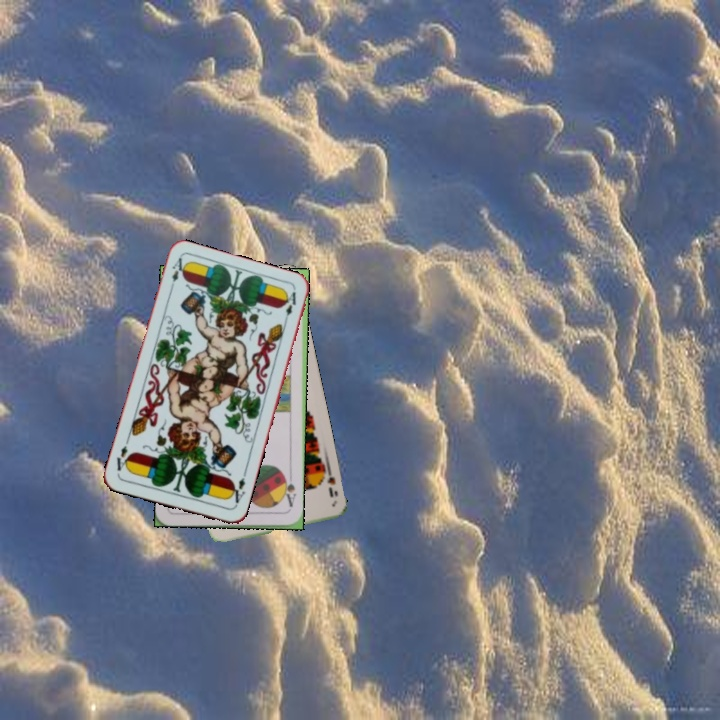EA: (225, 469, 249, 509), (166, 254, 188, 294)
S9: (316, 463, 338, 500)
SA: (279, 472, 298, 509)
